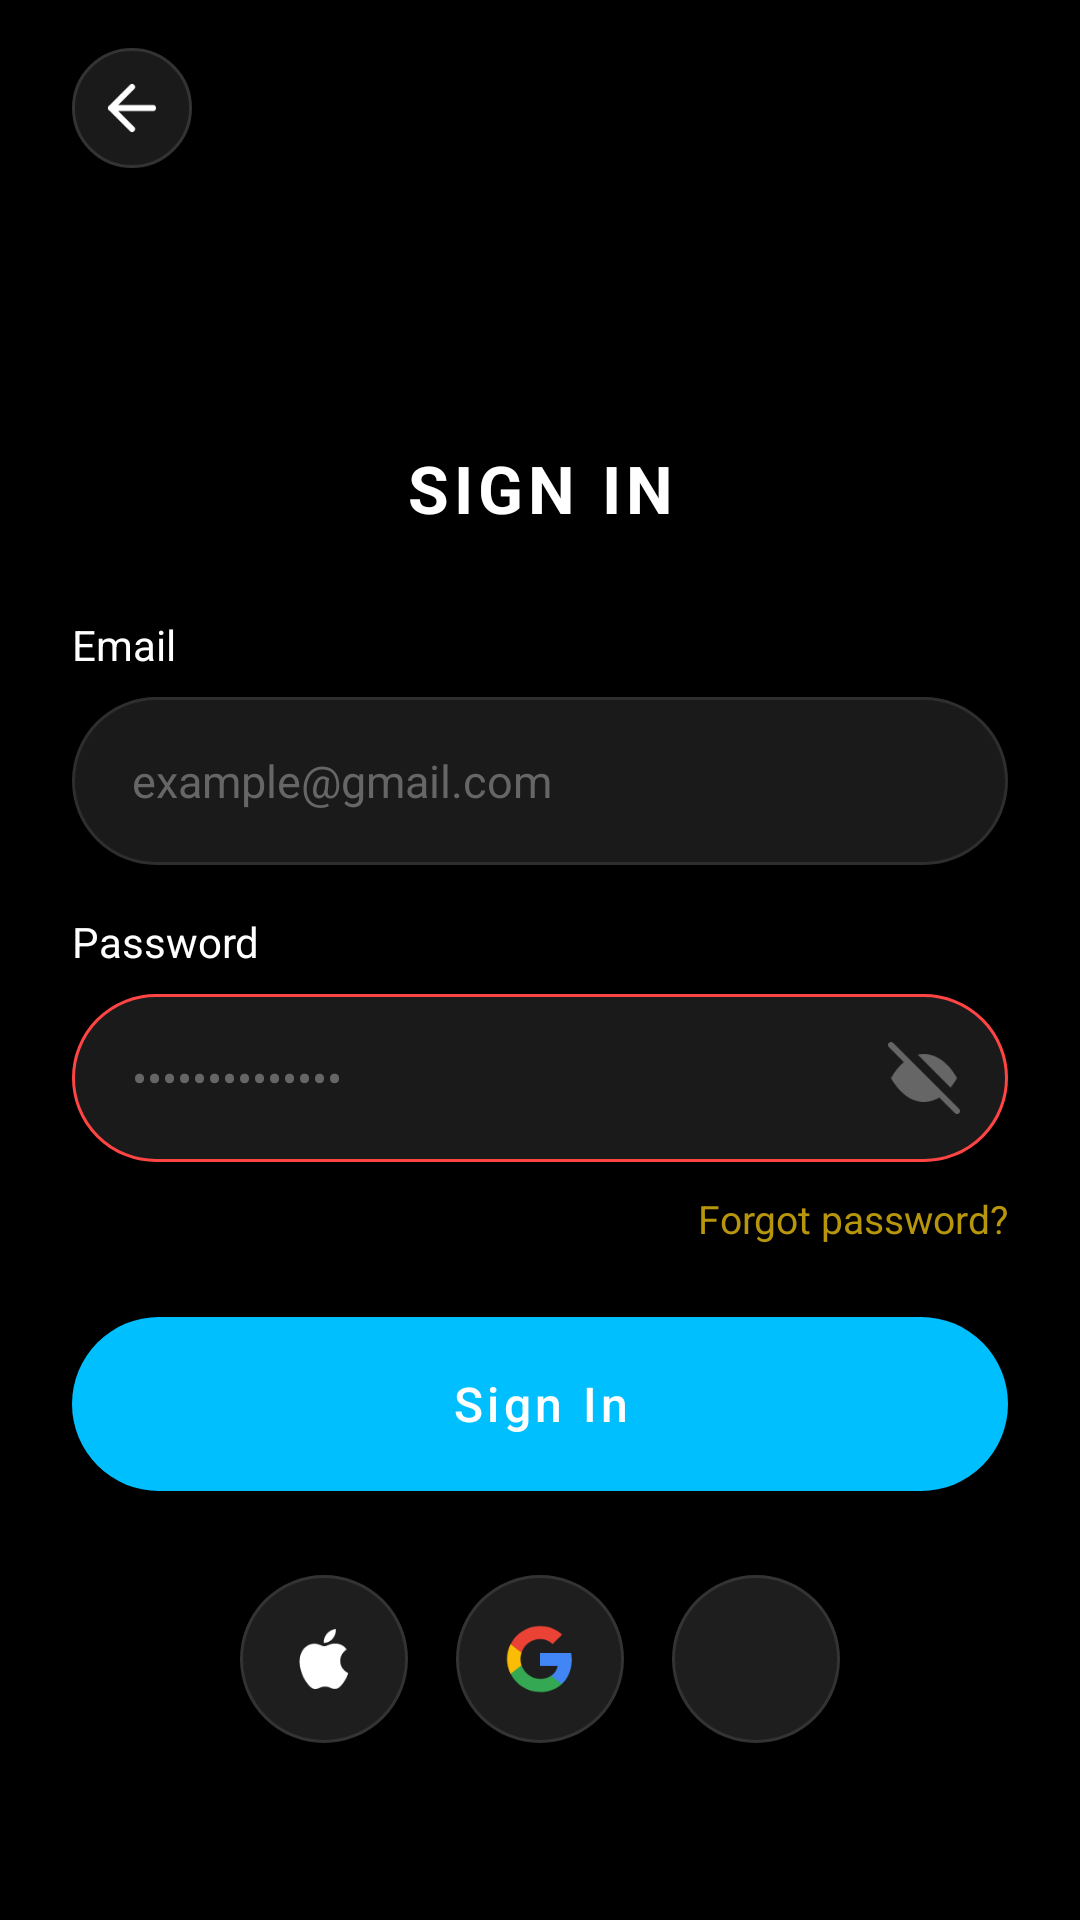

Icons on this 1080 x 1920 Android screen, each with the point to tap as (x,y):
Back: (132,108)
